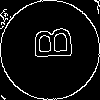B: (25, 25, 72, 61)
